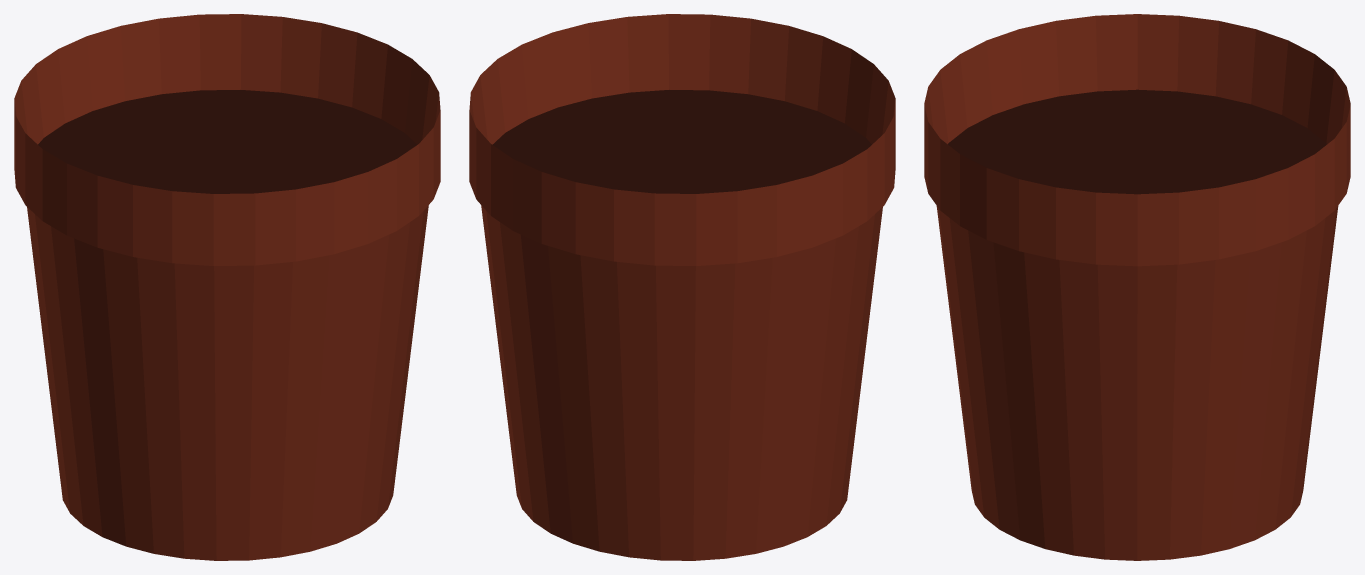
File: pot.fbx
The picture shows the model from 3 angles, left to right: view 1: azimuth 30°, elevation 25°; view 2: azimuth 150°, elevation 25°; view 3: azimuth 270°, elevation 25°; orthographic projection.
Visible parts, largest first — view 1: Cylinder; view 2: Cylinder; view 3: Cylinder.
Boxes of the visible parts, <box> form: Cylinder: <box>14,14,440,560</box>; Cylinder: <box>469,14,895,560</box>; Cylinder: <box>924,14,1350,560</box>.
Bounding box in the file's own units: 200 × 200 × 200.
